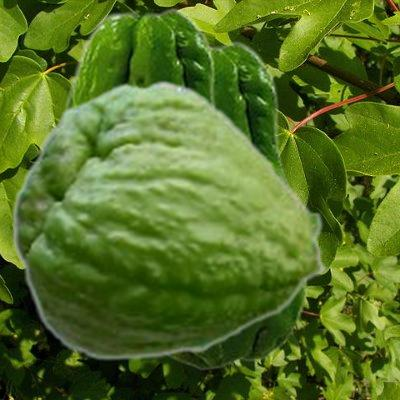sayote: (11, 79, 329, 361), (166, 40, 307, 370), (61, 7, 218, 109)
